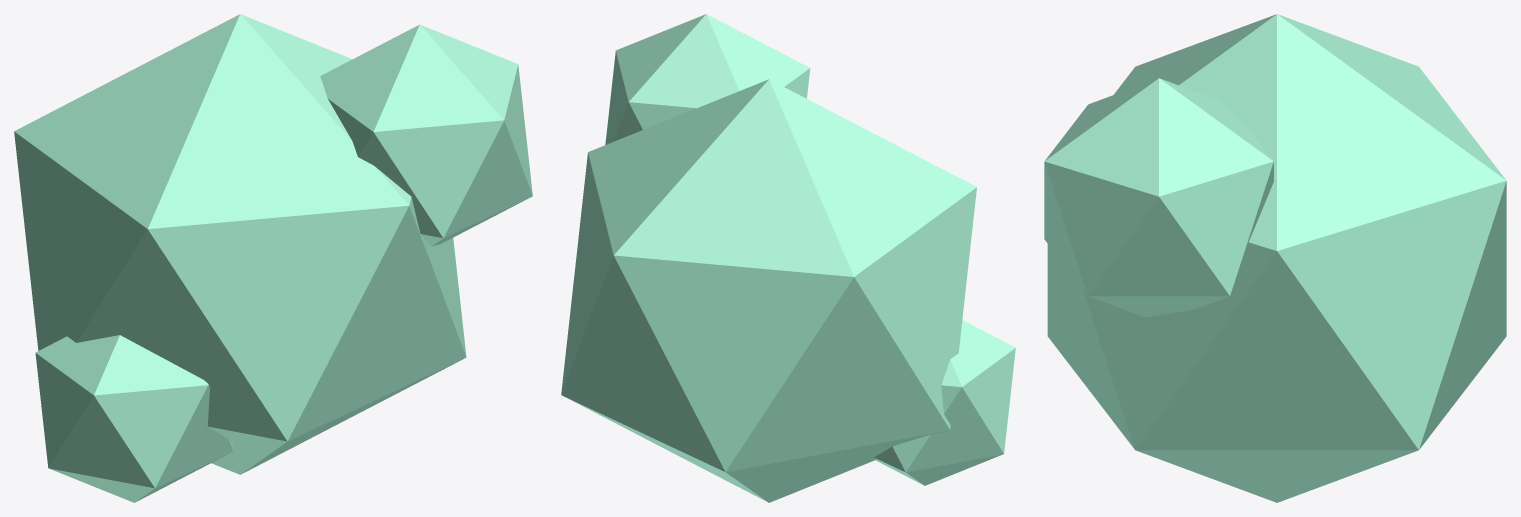
Rendered from Heart.fbx.
3 views of the same model, side by side, from view 1: azimuth 30°, elevation 25°; view 2: azimuth 150°, elevation 25°; view 3: azimuth 270°, elevation 25° (orthographic). The views are drawn at different scales.
Visible parts, largest first — view 1: Body; view 2: Body; view 3: Body.
Boxes of the visible parts, bbox=[...] form: Body: bbox=[14, 14, 532, 502]; Body: bbox=[561, 14, 1015, 502]; Body: bbox=[1044, 14, 1506, 502].
Size of the model in its own units: 1.62 by 1.6 by 1.37.
